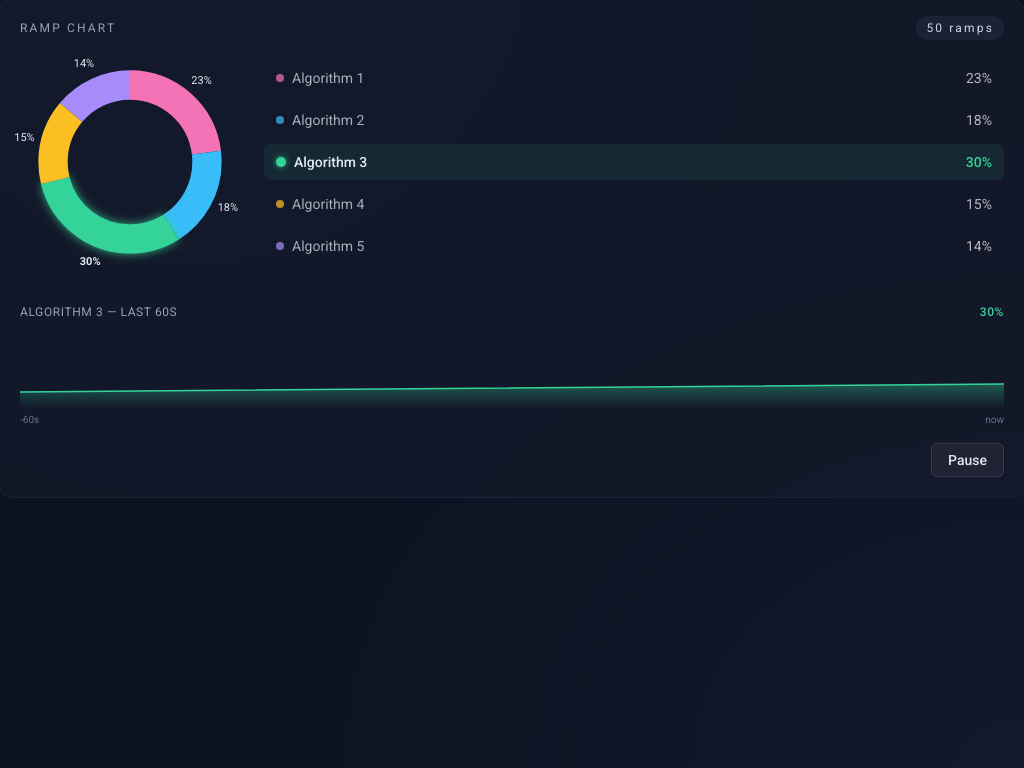
Test case: <RampChartCard> › also pins on keyboard focus (no mouse required)
This screenshot has width=1024, height=768.
Focus the button with aria-label "Focus sparkline on Algorithm 2". click: (328, 120)
box: 264,102 -> 1004,138
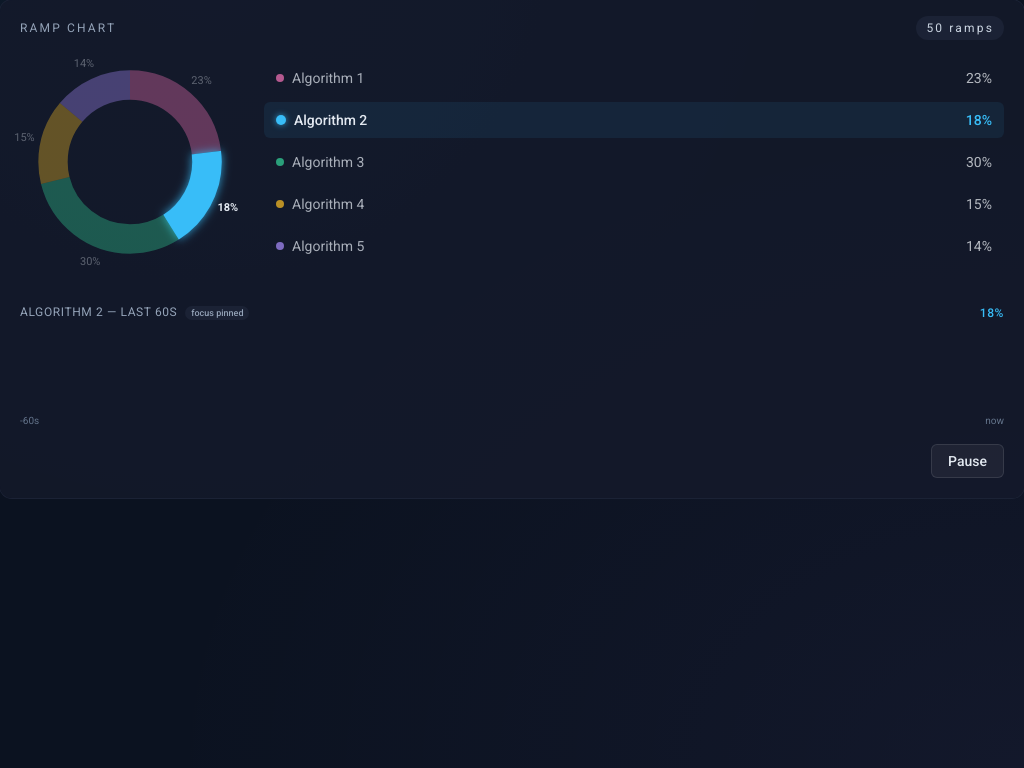
Check: the text "Algorithm 2 — Last 60sfocus pinned" is shown, box 20,304 -> 250,321
Leave the button with aria-label "Focus sparkline on Algorithm 2", box 264,102 -> 1004,138
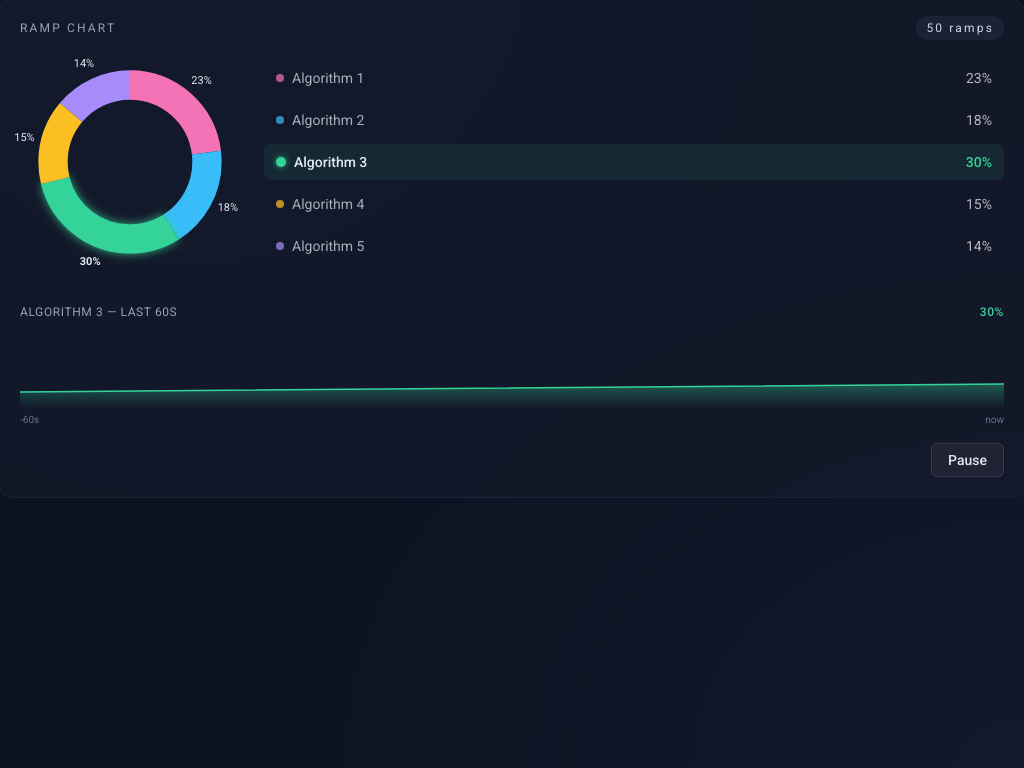
Check: the text "Algorithm 3 — Last 60s" is shown, box 20,304 -> 177,320
